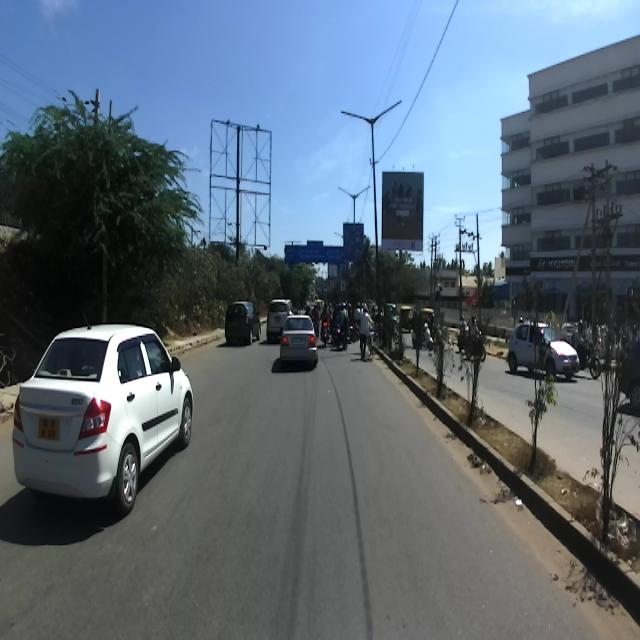car ahead at: (18, 314, 198, 520), (272, 312, 320, 374)
